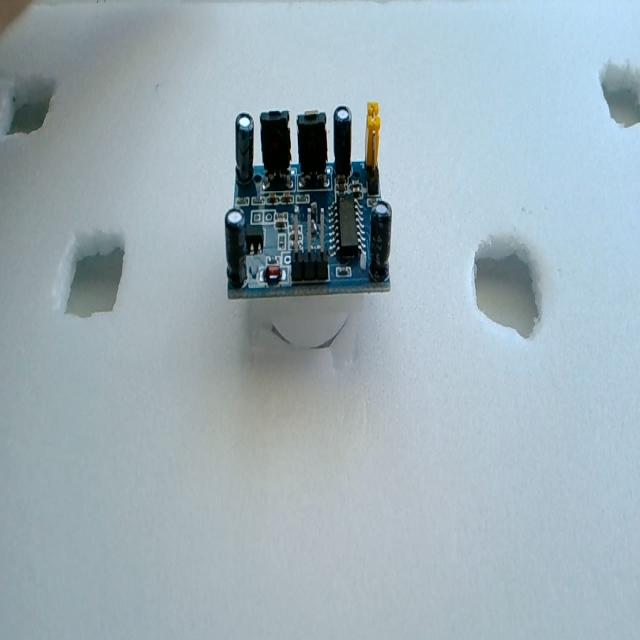Electrolytic capacitor: (369, 202, 392, 282), (225, 208, 248, 286), (235, 112, 254, 186), (333, 106, 352, 180)
IC: (326, 197, 368, 272)
pinheader: (289, 208, 327, 278)
